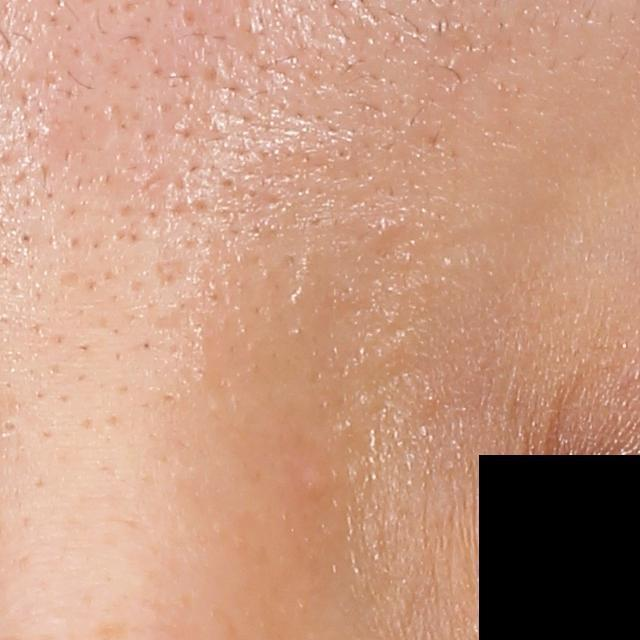comedo: (17, 228, 37, 249), (335, 142, 351, 160)
